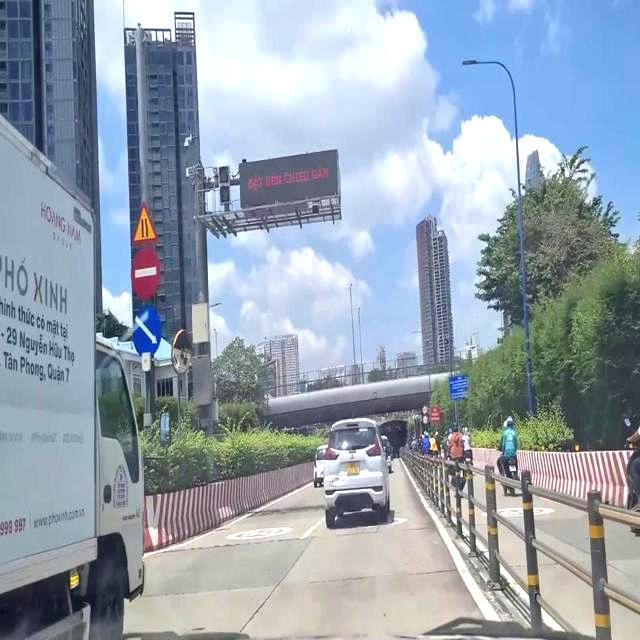Cấm đi ngược chiều: (131, 243, 159, 303)
Hướng phải đi vòng sang phải: (131, 307, 160, 355)
Khác: (446, 371, 475, 402)
Đường hẹp: (129, 201, 158, 246)
